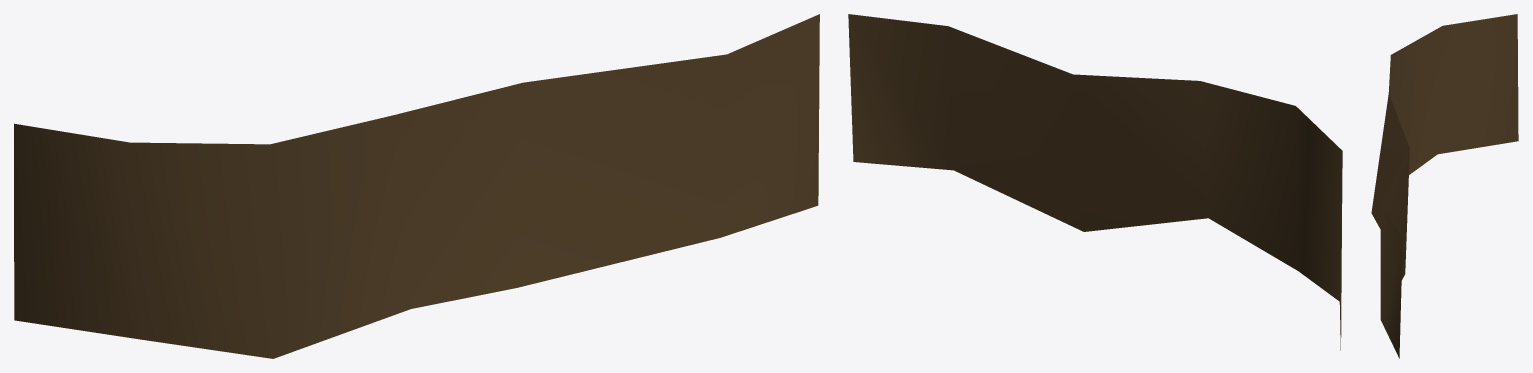
The model's file is SWORDLIGHT20_PS-AREA03_41.fbx.
3 renders of one model, left to right at view 1: azimuth 30°, elevation 25°; view 2: azimuth 150°, elevation 25°; view 3: azimuth 270°, elevation 25°, orthographic. The views are drawn at different scales.
Parts seen in each view (by area): view 1: SWORDLIGHT20_PS-AREA03_41; view 2: SWORDLIGHT20_PS-AREA03_41; view 3: SWORDLIGHT20_PS-AREA03_41.
Part boxes in pixels (x1,y1,x2,y2): SWORDLIGHT20_PS-AREA03_41: [14, 14, 819, 358]; SWORDLIGHT20_PS-AREA03_41: [848, 14, 1342, 350]; SWORDLIGHT20_PS-AREA03_41: [1371, 14, 1518, 358].
Size of the model in its own units: 185297 by 53228 by 51209.
1 material, 1 textured.
